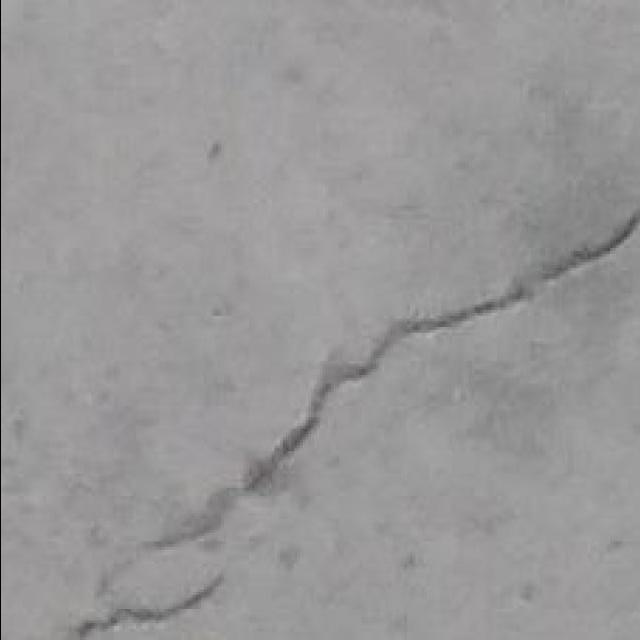Crack: (72, 201, 638, 635), (379, 188, 630, 357), (75, 458, 306, 634)
